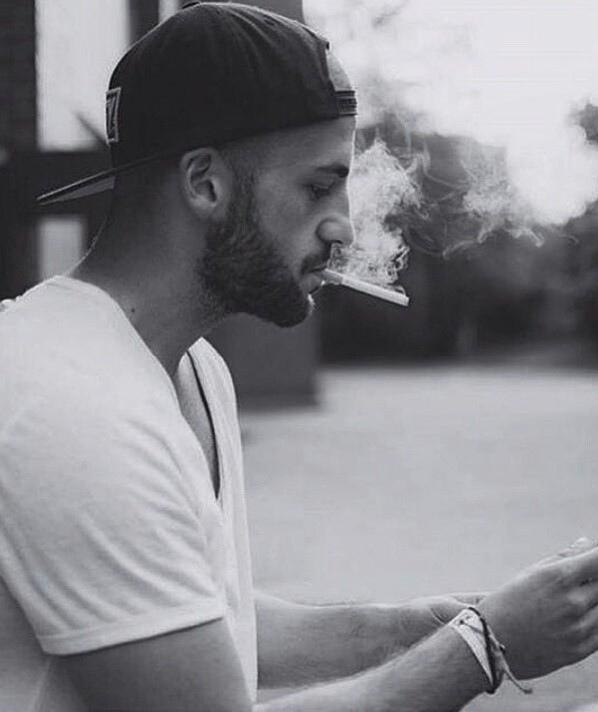cigarette: (323, 268, 409, 307)
